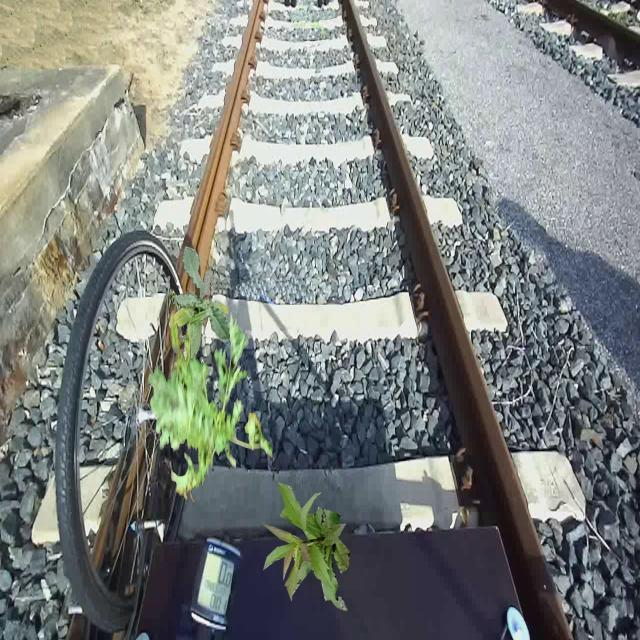Plant: (148, 308, 273, 504), (261, 482, 349, 612), (169, 246, 232, 370)
